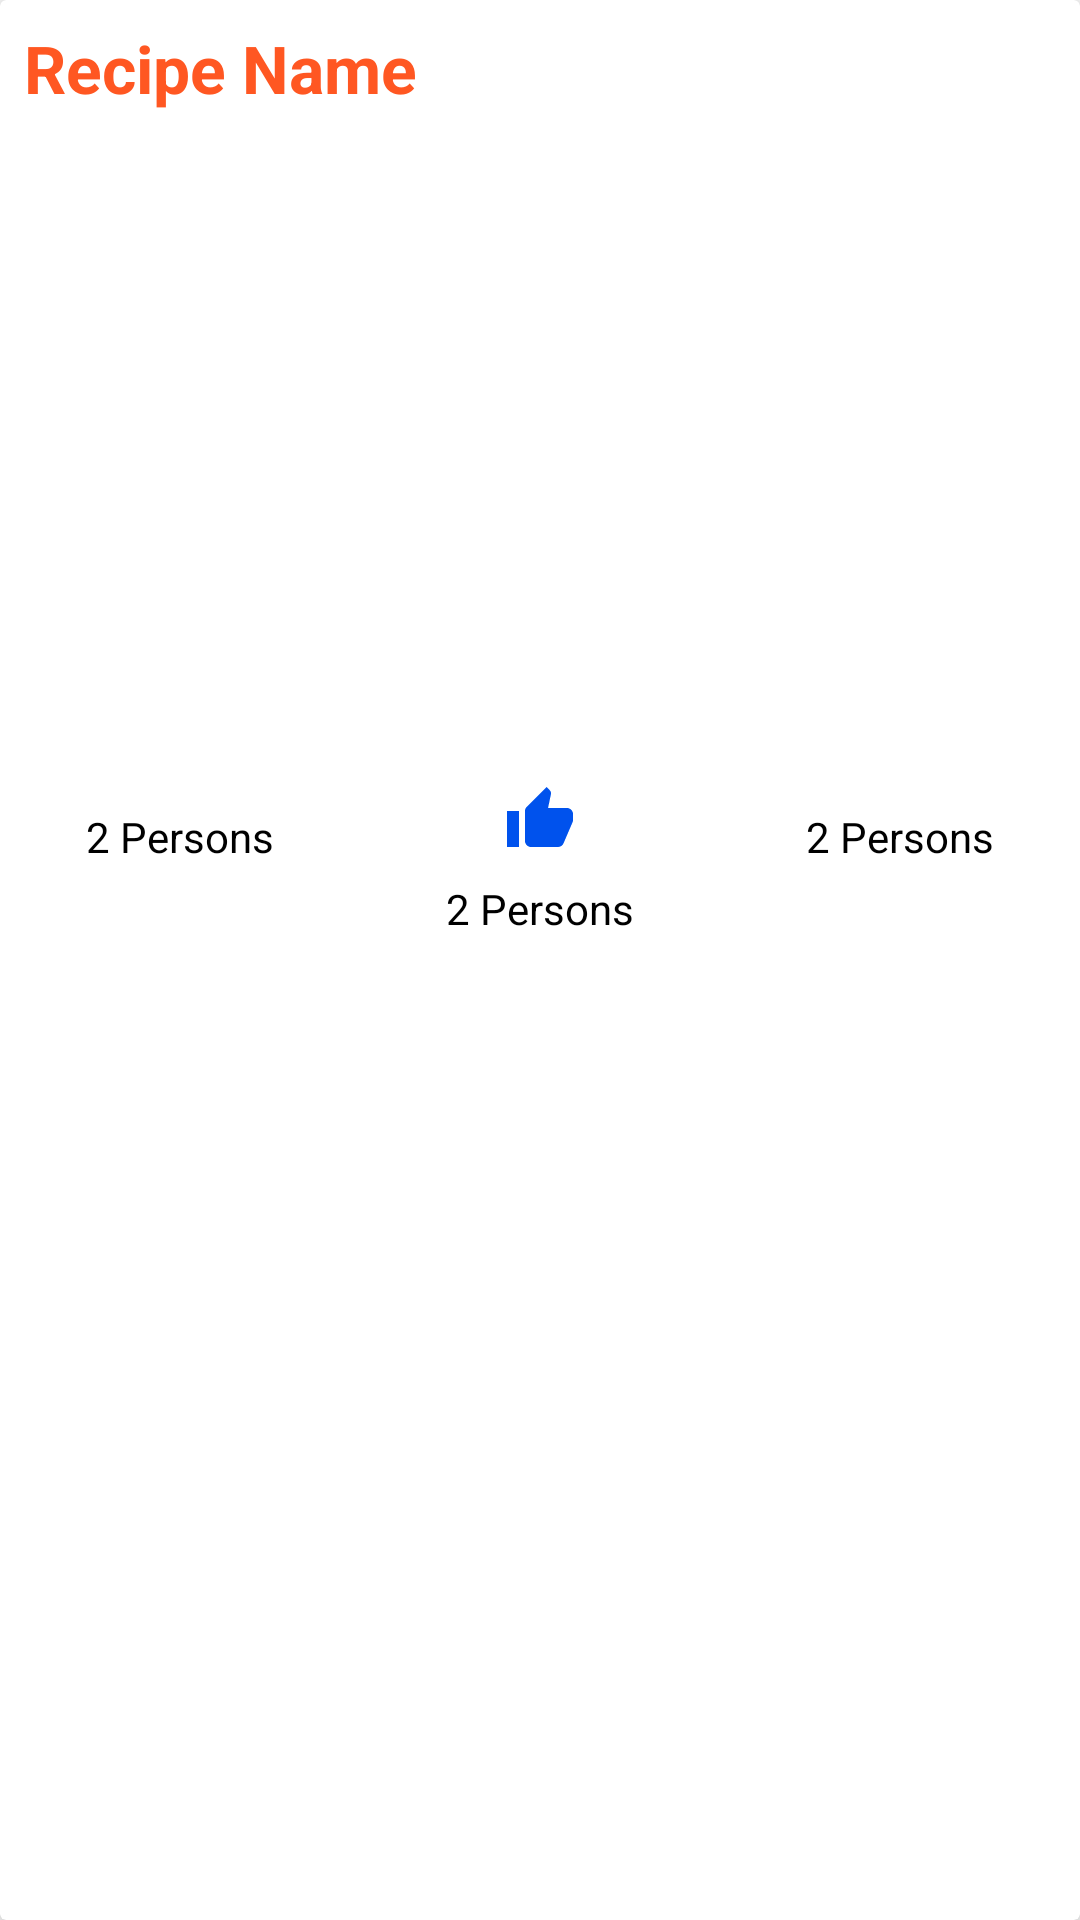

Icon bounding boxes for this 1080 × 1920 phone screenshot, format {"x1": x1, "y1": y1, "x2": x2, "y2": y2}:
like: {"x1": 507, "y1": 787, "x2": 573, "y2": 847}
